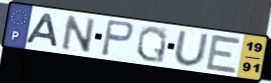A: (24, 12, 61, 50)
E: (204, 32, 244, 75)
N: (60, 13, 97, 54)
P: (99, 18, 136, 58)
Q: (135, 25, 170, 65)
U: (172, 29, 211, 68)
